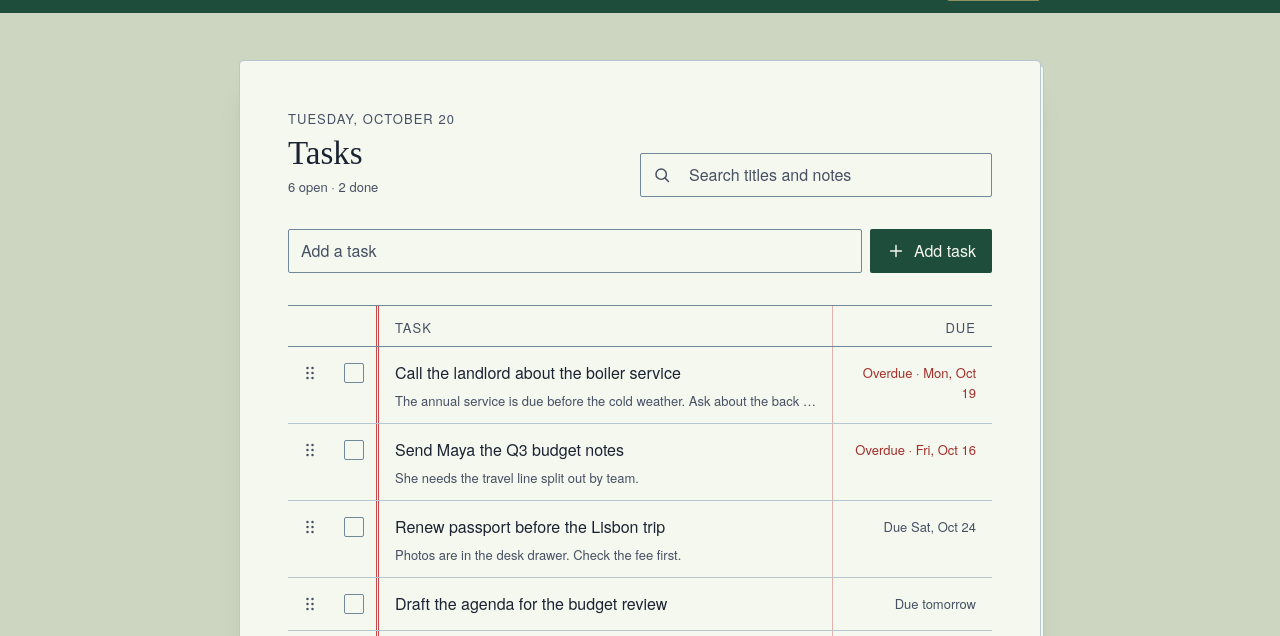
Test: TaskListPage › keeps a dismissed notice gone after opening a task and coming back
This screenshot has width=1280, height=636.
Click the checkbox named "Completed: Renew passport before the Lisbon trip" at (354, 527), box [332,505,376,549]
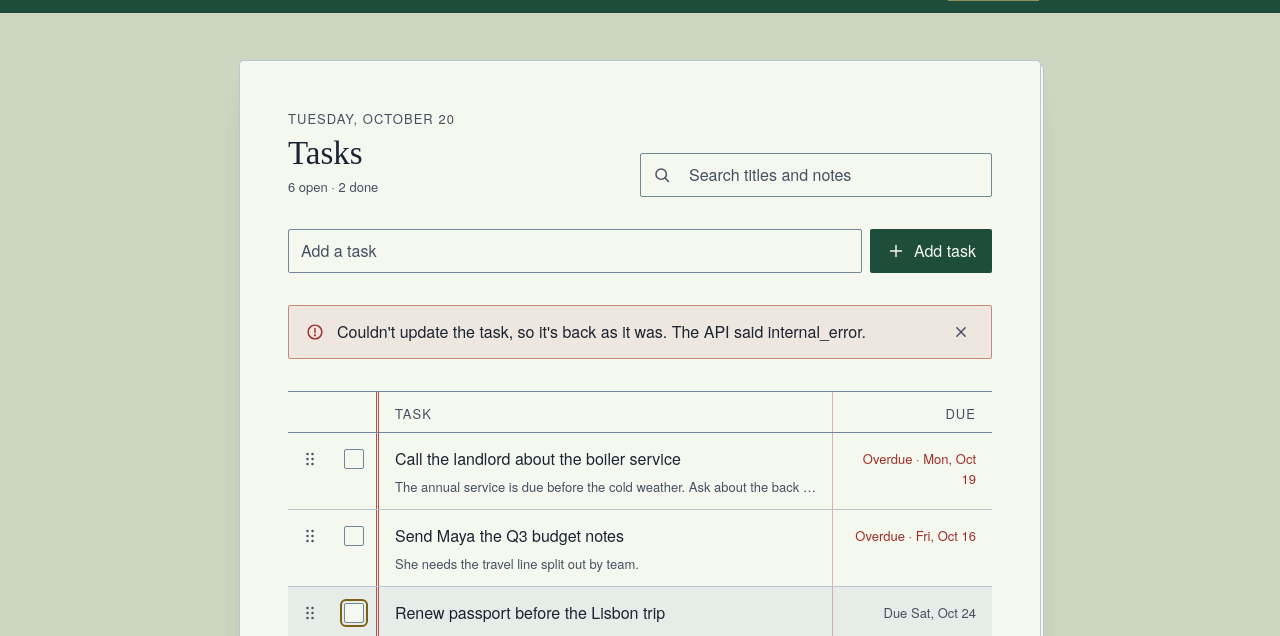
Click the button named "Dismiss" at (961, 332), box [935,310,987,354]
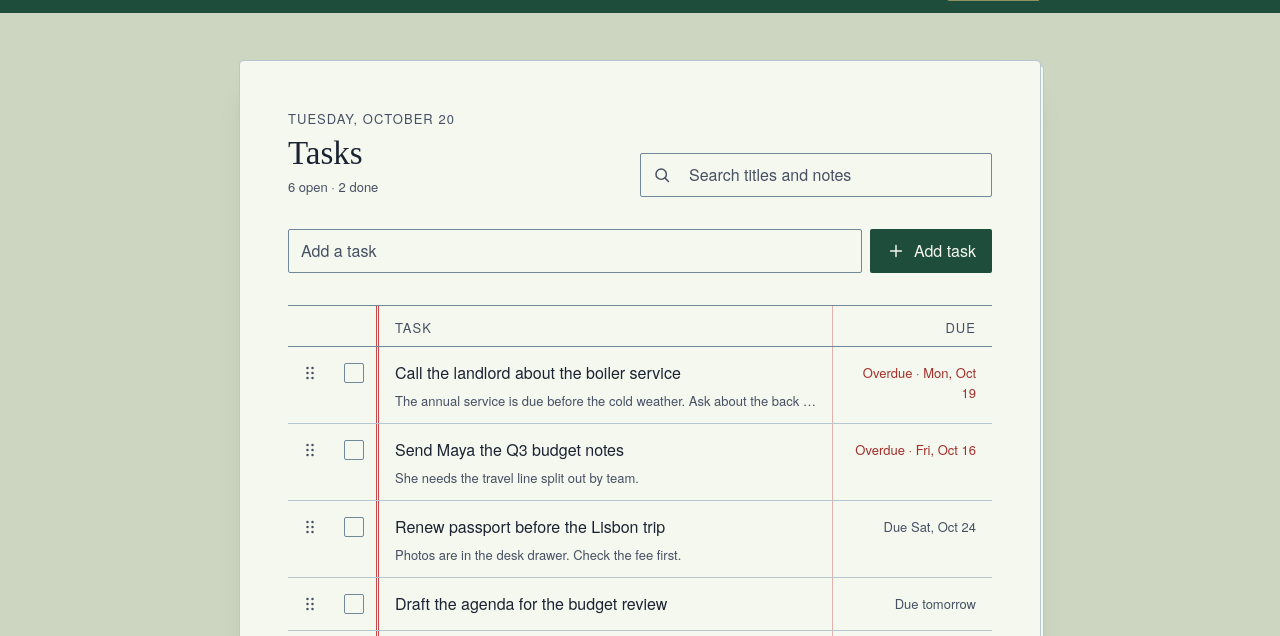
Click the link "Renew passport before the Lisbon trip" at (530, 526), box [395,515,665,538]
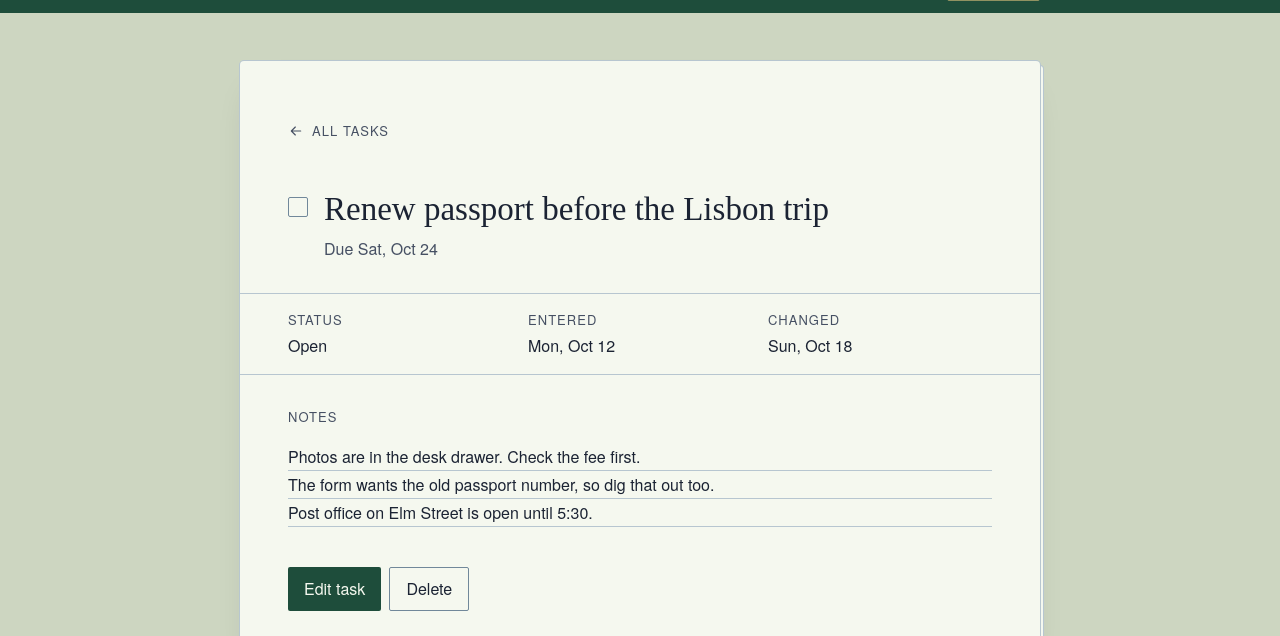
Click the link "All tasks" at (338, 130), box [288,121,389,140]
(page scrolled)
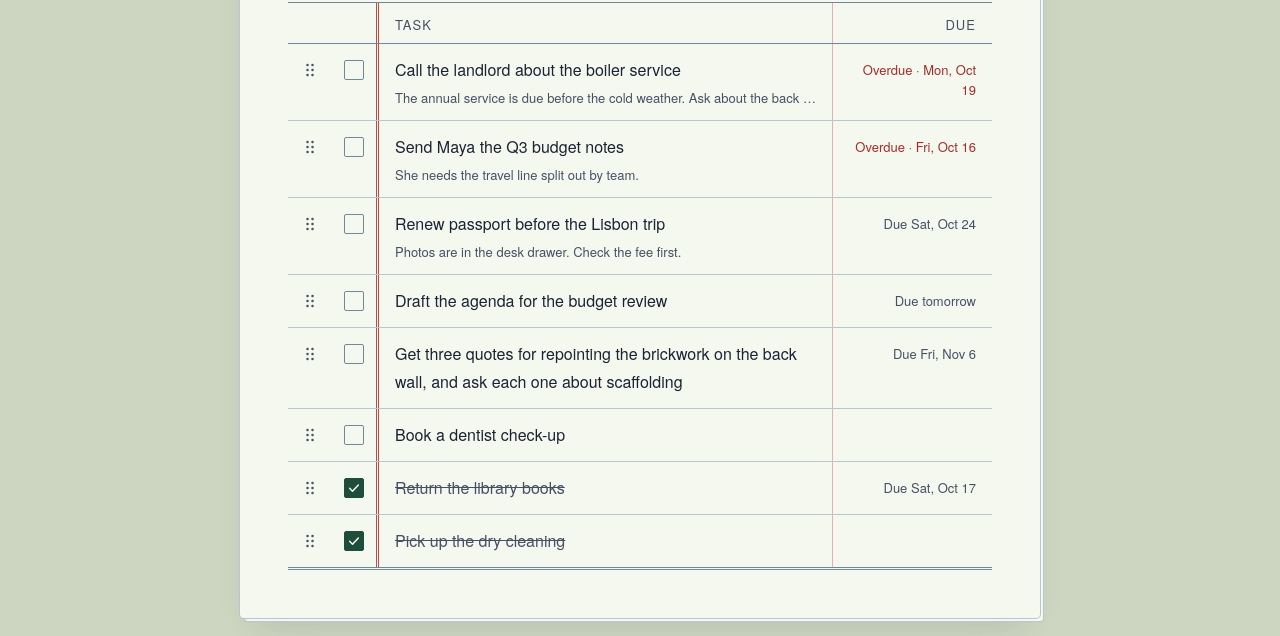
Now the list named "Tasks" is shown, box [288,44,992,567]
